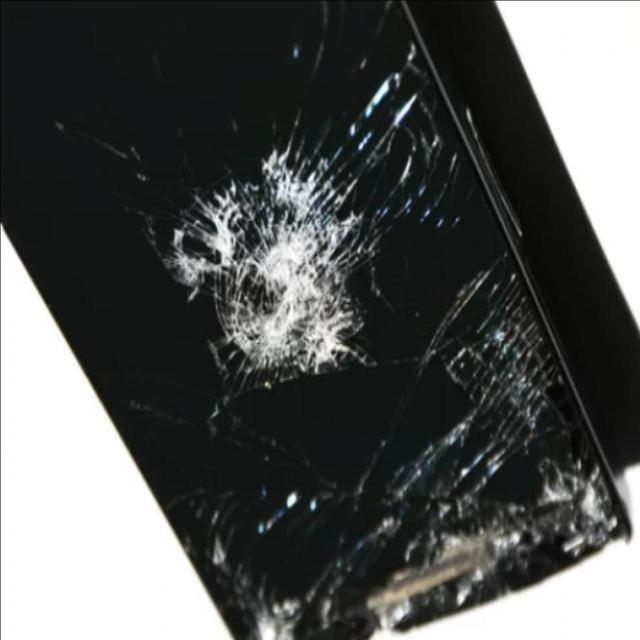Crack: (173, 415, 632, 640), (150, 96, 399, 400)
